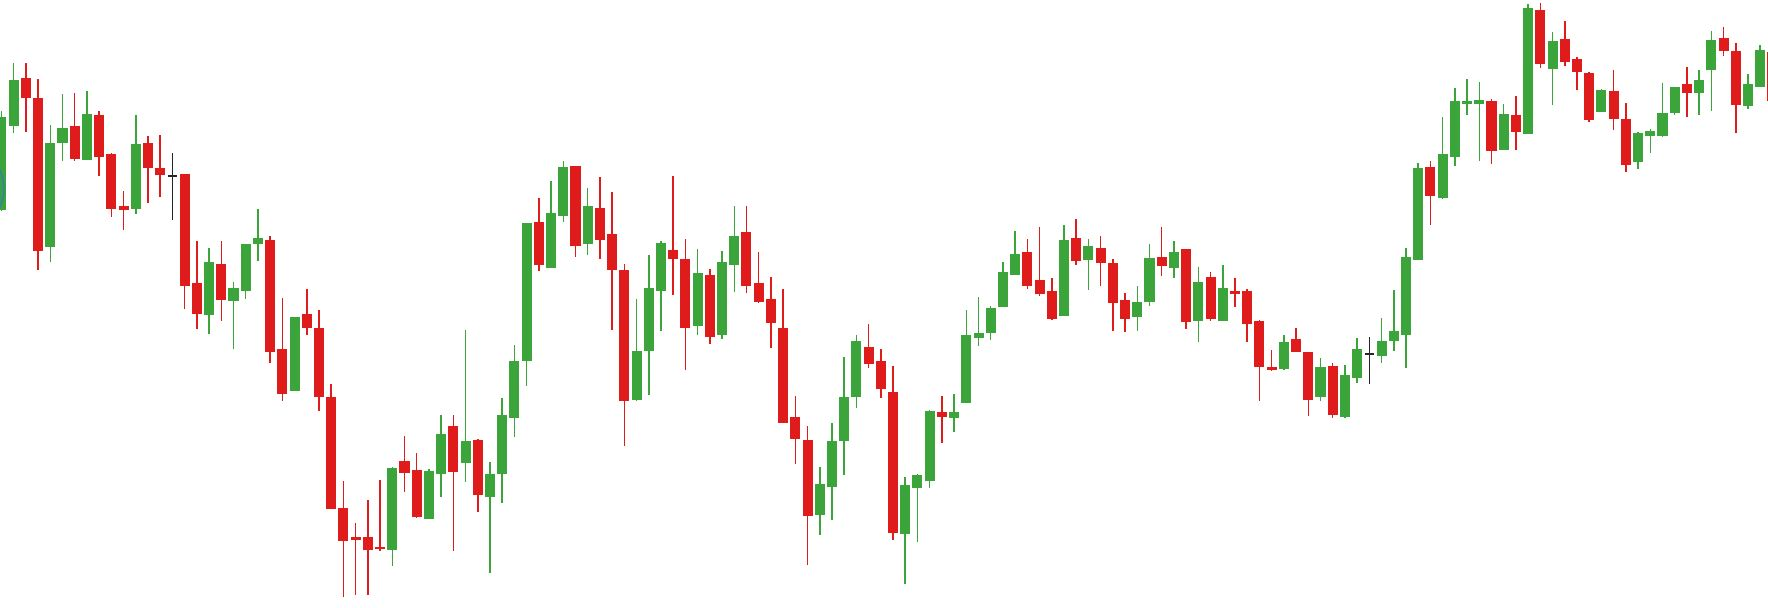buy: (801, 412, 912, 591), (381, 450, 496, 588)
sell: (192, 205, 279, 321)
